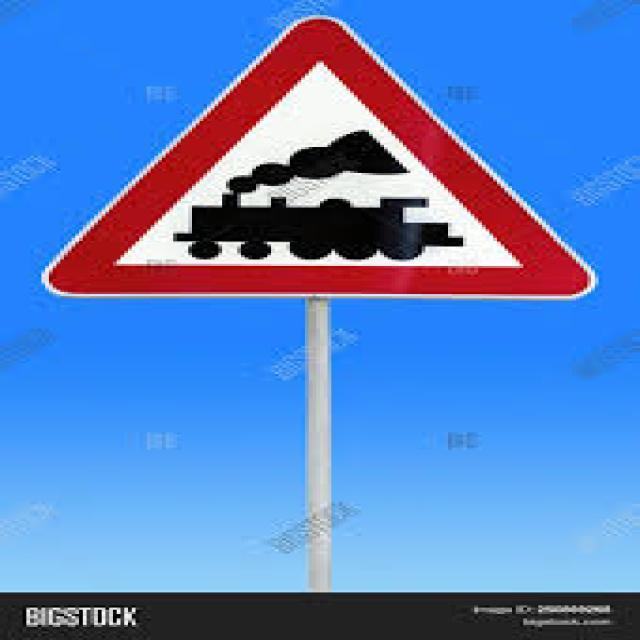unguarded level crossing: (41, 12, 589, 291)
